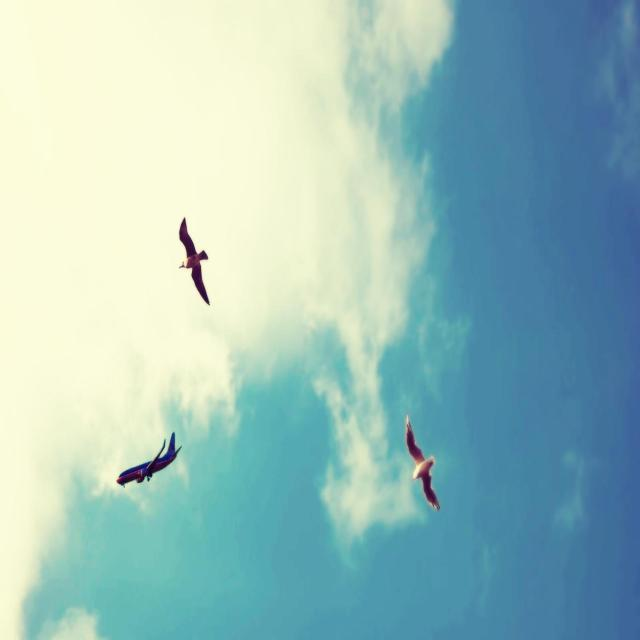airplane: (116, 431, 182, 488)
